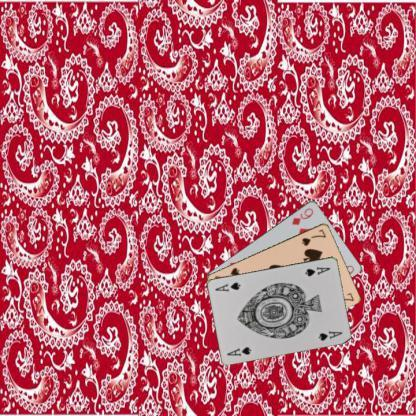7s: (299, 226, 327, 247)
9d: (288, 205, 314, 226)
As: (302, 263, 332, 278), (225, 343, 252, 358)
